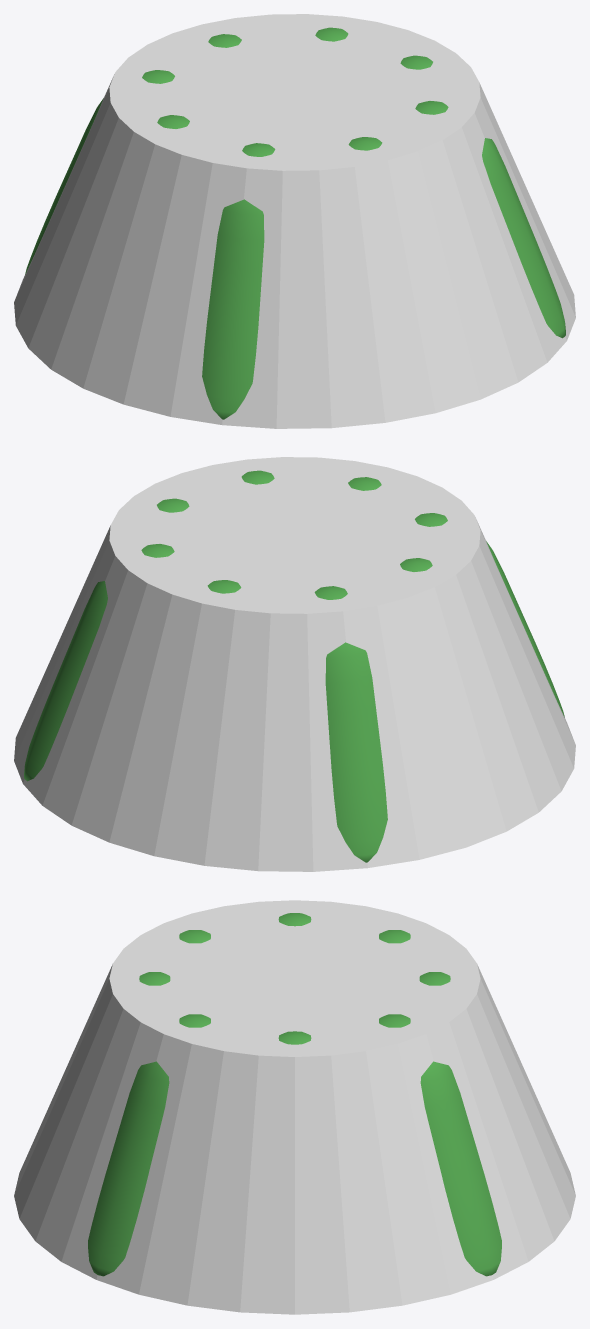
File: Jelly.fbx
3 renders of one model, top to bottom at view 1: azimuth 30°, elevation 25°; view 2: azimuth 150°, elevation 25°; view 3: azimuth 270°, elevation 25°, orthographic.
Visible parts, largest first — view 1: Jcoll 1, Jelly; view 2: Jcoll 1, Jelly; view 3: Jcoll 1, Jelly.
Boxes of the visible parts, x1,y1,x2,y2 form: Jcoll 1: (14, 14, 575, 428); Jelly: (25, 27, 565, 419); Jcoll 1: (14, 457, 575, 871); Jelly: (24, 470, 564, 862); Jcoll 1: (14, 900, 575, 1314); Jelly: (88, 913, 501, 1276).
Bounding box in the file's own units: 438 × 189 × 438.
